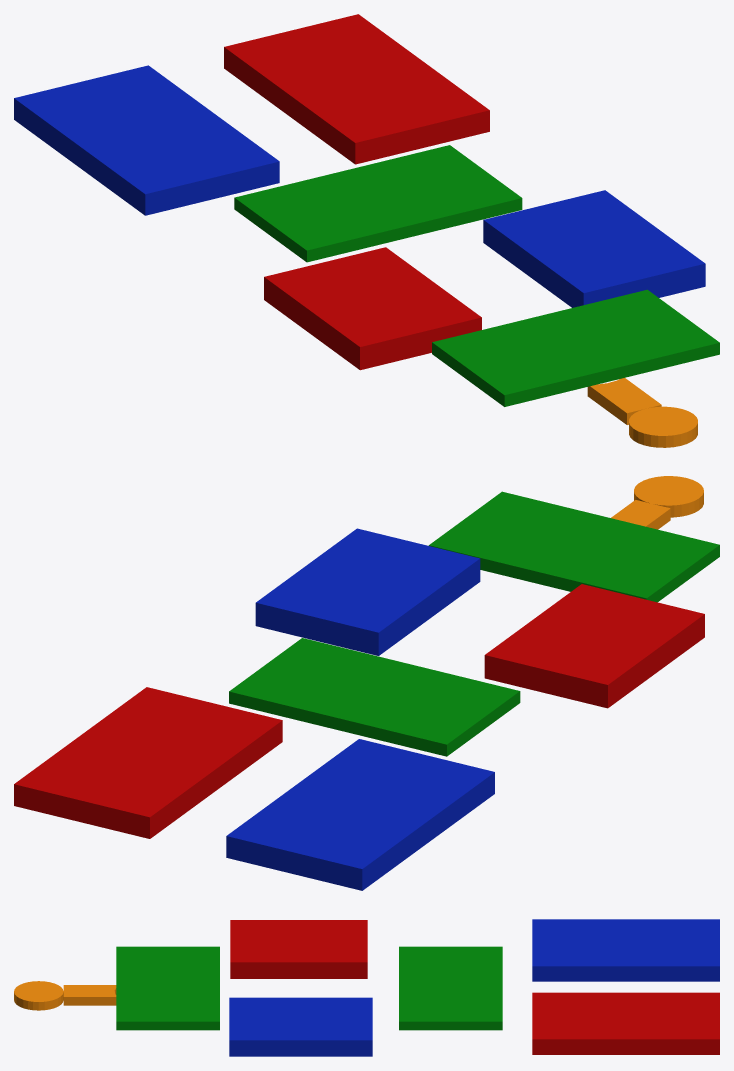
Rendered from testlevel.FBX.
The picture shows the model from 3 angles, top to bottom: view 1: azimuth 30°, elevation 25°; view 2: azimuth 150°, elevation 25°; view 3: azimuth 270°, elevation 25°; orthographic projection. The views are drawn at different scales.
Parts seen in each view (by area): view 1: Rectangle005, Rectangle006, Rectangle004, Rectangle007, Rectangle002, Rectangle003, Circle004, Rectangle001; view 2: Rectangle005, Rectangle006, Rectangle004, Rectangle007, Rectangle002, Rectangle003, Circle004, Rectangle001; view 3: Rectangle005, Rectangle006, Rectangle004, Rectangle007, Rectangle002, Rectangle003, Circle004, Rectangle001.
Part boxes in pixels (<box>): Rectangle005: <box>14,65,279,215</box>; Rectangle006: <box>224,14,489,164</box>; Rectangle004: <box>234,145,522,262</box>; Rectangle007: <box>432,289,719,406</box>; Rectangle002: <box>483,190,705,307</box>; Rectangle003: <box>264,247,481,370</box>; Circle004: <box>629,406,697,447</box>; Rectangle001: <box>587,378,661,424</box>; Rectangle005: <box>226,739,494,890</box>; Rectangle006: <box>14,687,282,838</box>; Rectangle004: <box>229,638,520,756</box>; Rectangle007: <box>428,491,719,602</box>; Rectangle002: <box>255,528,480,655</box>; Rectangle003: <box>484,584,704,708</box>; Circle004: <box>634,476,703,517</box>; Rectangle001: <box>611,500,670,529</box>; Rectangle005: <box>532,919,719,981</box>; Rectangle006: <box>532,992,719,1054</box>; Rectangle004: <box>399,946,502,1030</box>; Rectangle007: <box>116,946,219,1030</box>; Rectangle002: <box>229,997,372,1056</box>; Rectangle003: <box>230,920,367,978</box>; Circle004: <box>14,981,63,1010</box>; Rectangle001: <box>63,985,116,1005</box>.
Size of the model in its own units: 307 by 24.74 by 753.
